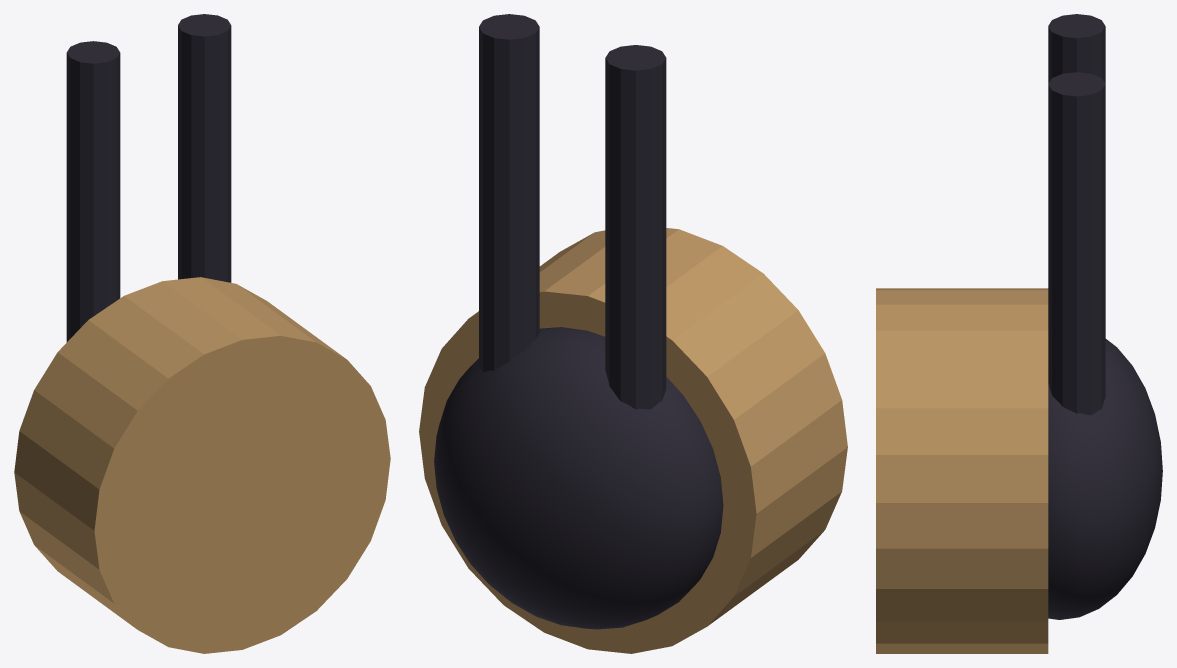
Rendered from SM_Keeper_Sobek_Turret10p9.fbx.
3 views of the same model, side by side, from view 1: azimuth 30°, elevation 25°; view 2: azimuth 150°, elevation 25°; view 3: azimuth 270°, elevation 25° (orthographic). The views are drawn at different scales.
Visible parts, largest first — view 1: SM_Keeper_Sobek_Turret10p9; view 2: SM_Keeper_Sobek_Turret10p9; view 3: SM_Keeper_Sobek_Turret10p9.
Boxes of the visible parts, x1,y1,x2,y2 form: SM_Keeper_Sobek_Turret10p9: (14,14,390,653); SM_Keeper_Sobek_Turret10p9: (419,14,847,653); SM_Keeper_Sobek_Turret10p9: (876,14,1162,653).
Bounding box in the file's own units: 0.64 × 1.12 × 0.5.
